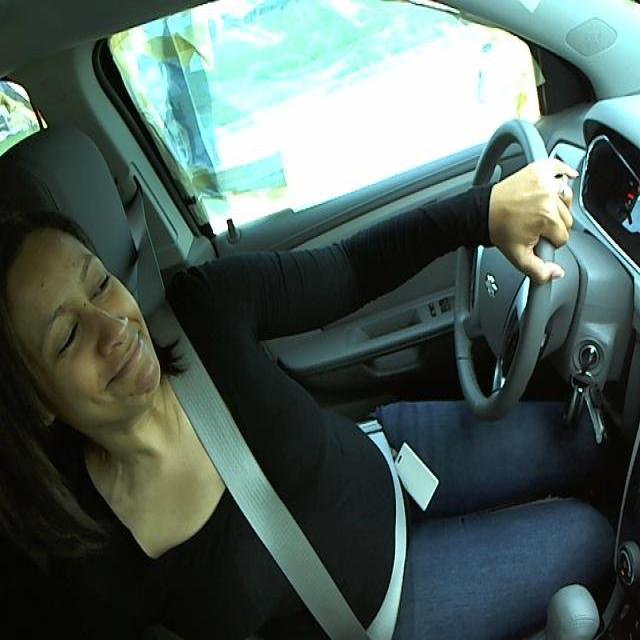seatbelt: (164, 383, 376, 637)
